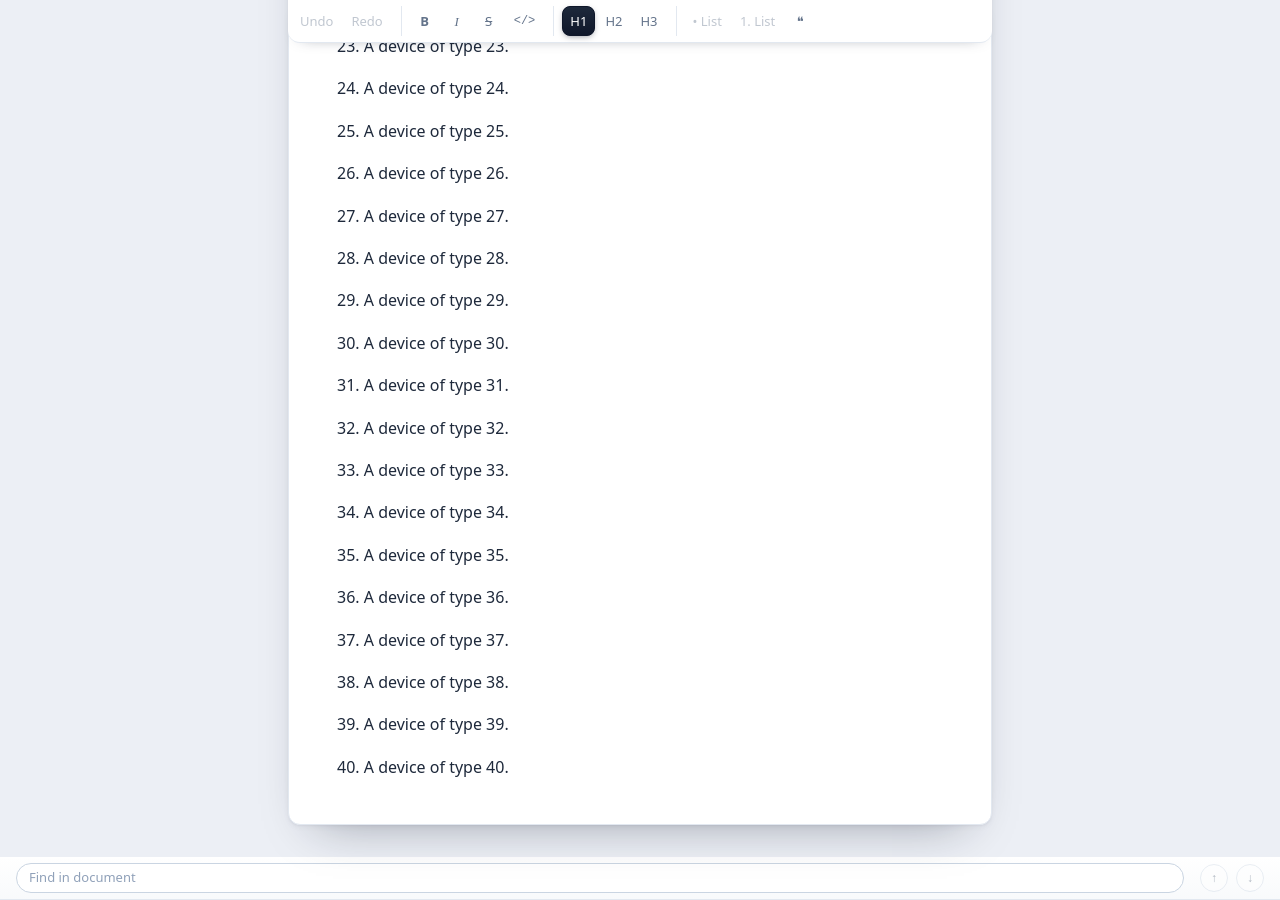
N4 FindBar › says No matches instead of showing nothing
(page scrolled)
Step 1. Type "titanium" into the search field labelled "Find in document" → (600, 878), box [16,863,1184,893]
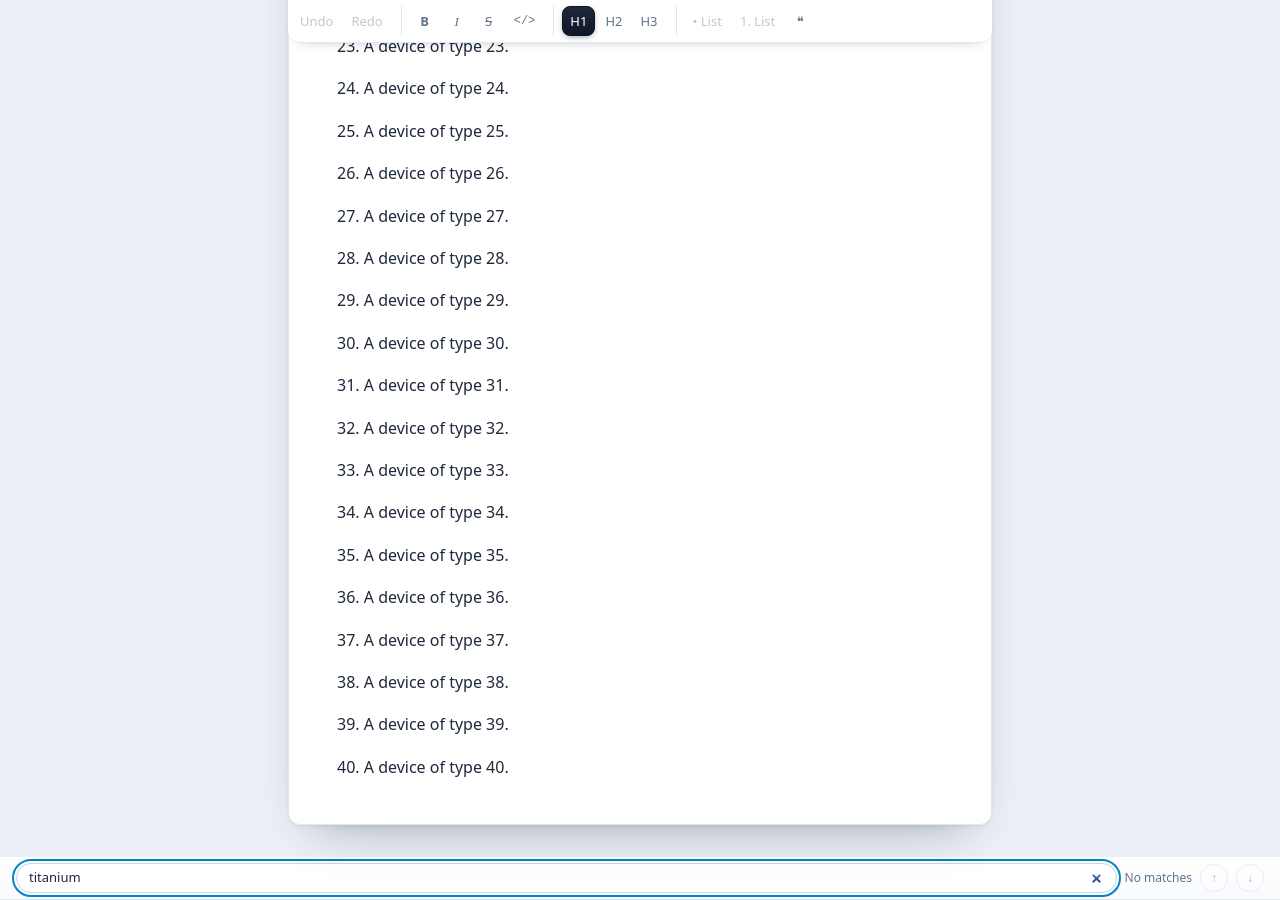
Expected: the button named "Next match" is disabled, [1236,864,1264,892]
Result: the text "No matches" is shown at [1124,869,1192,887]
